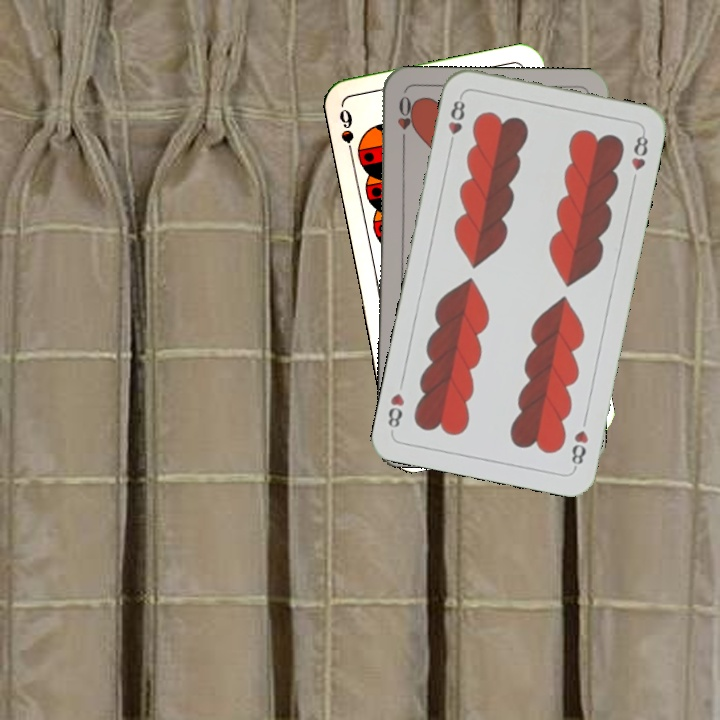H8: (444, 92, 468, 151), (567, 426, 591, 472)
HO: (393, 91, 415, 150)
S9: (335, 104, 357, 162)
